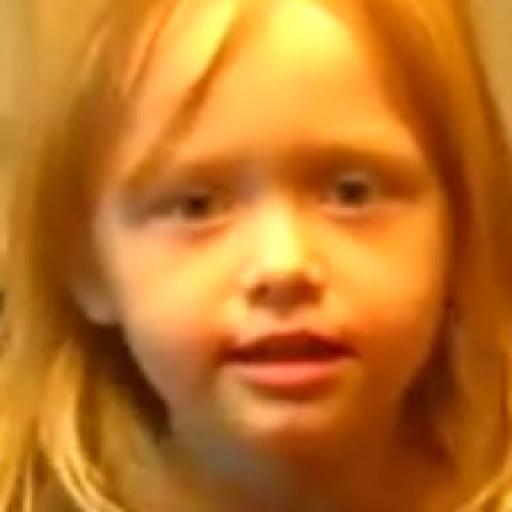Autism: (54, 3, 473, 504)
